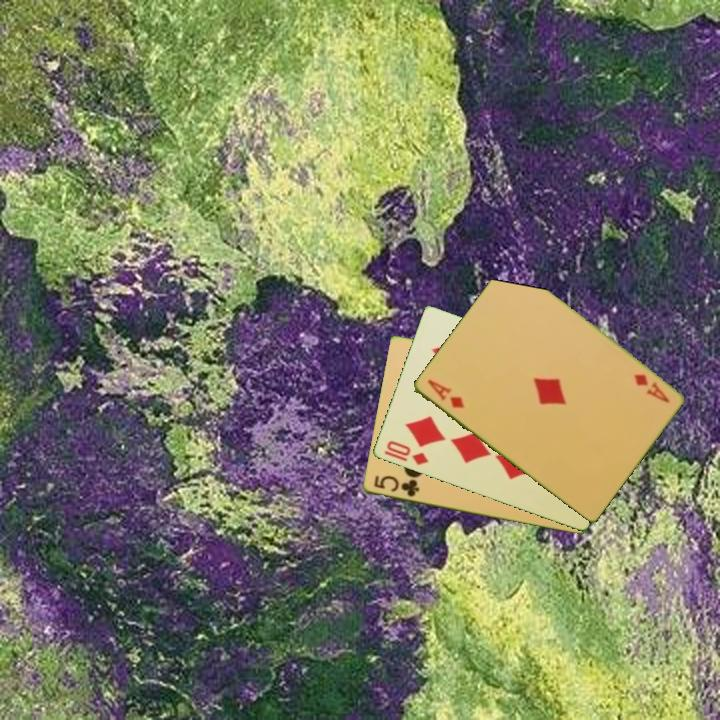10d: (380, 437, 431, 468)
5c: (370, 472, 422, 500)
Ad: (423, 376, 467, 411), (630, 370, 672, 406)
